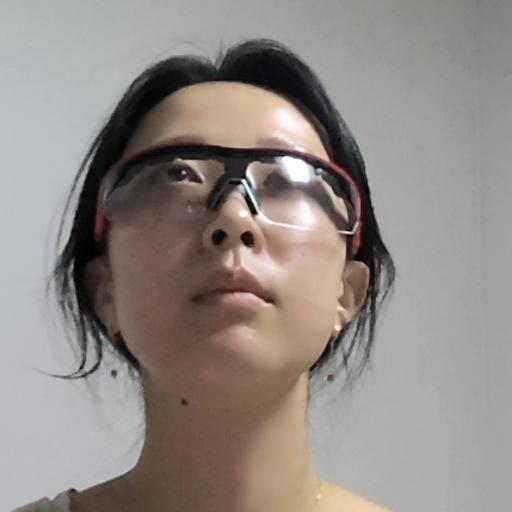glasses: (55, 33, 392, 429)
